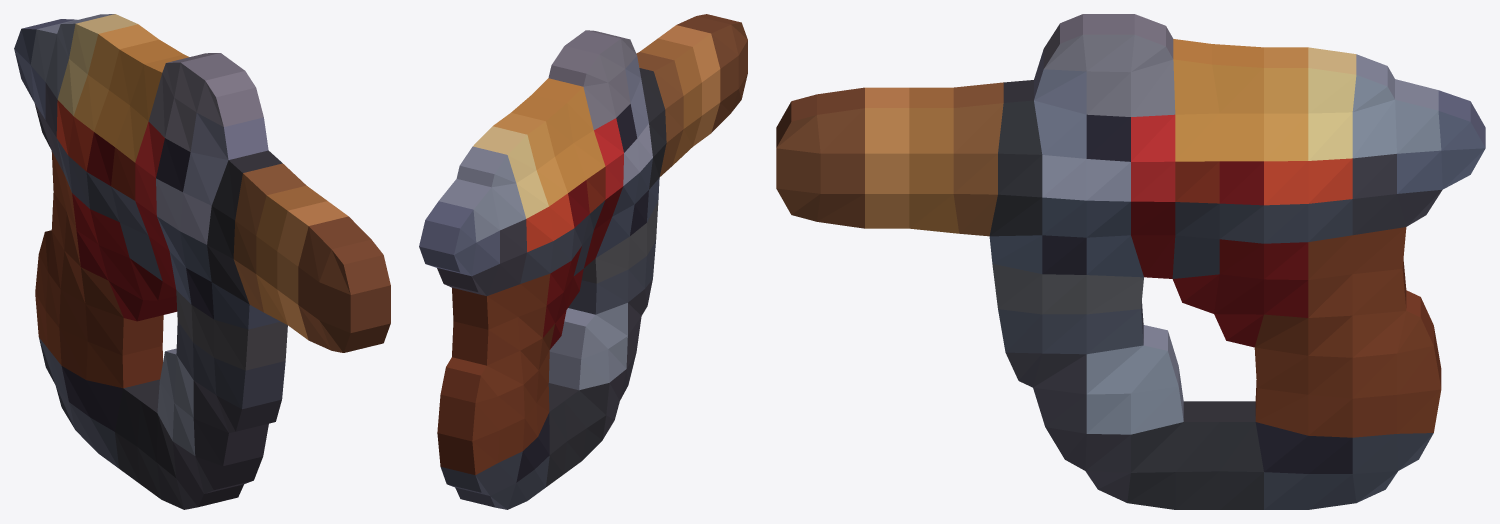
Rendered from nail_gun_pixel.glb.
3 views of the same model, side by side, from view 1: azimuth 30°, elevation 25°; view 2: azimuth 150°, elevation 25°; view 3: azimuth 270°, elevation 25° (orthographic). The views are drawn at different scales.
Parts seen in each view (by area): view 1: nail_gun; view 2: nail_gun; view 3: nail_gun.
Boxes of the visible parts, <box> form: nail_gun: <box>14,14,390,509</box>; nail_gun: <box>419,14,747,509</box>; nail_gun: <box>776,14,1485,509</box>.
Bounding box in the file's own units: 0.058 × 0.2366 × 0.32.
1 material, 1 textured.
